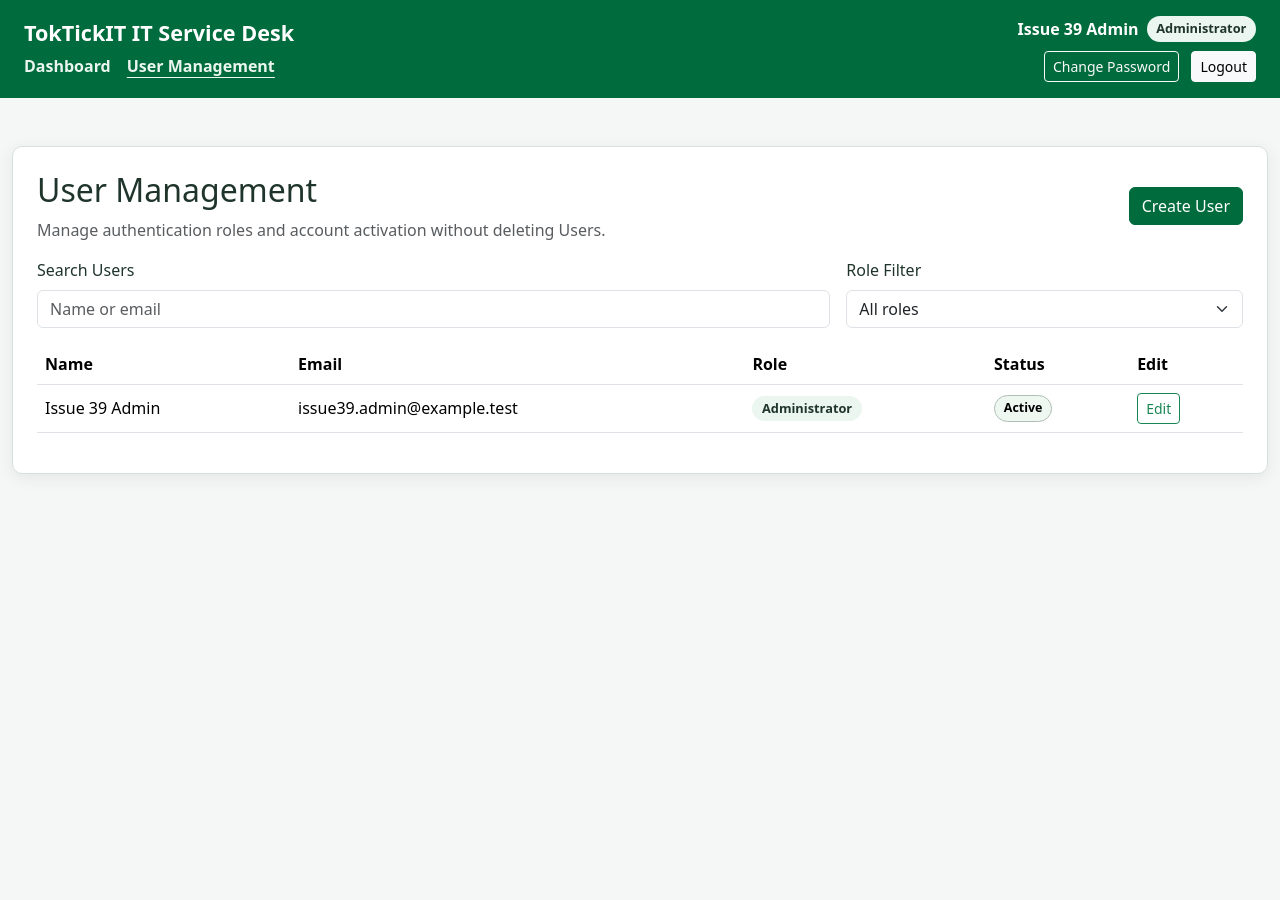
Scenario: Lab 3 Issue 7 Administrator User Management › UI-08 shows last-active-Administrator conflict feedback instead of a generic failure
Click the button "Edit". click: (1159, 408)
box: 1137,392 -> 1180,424
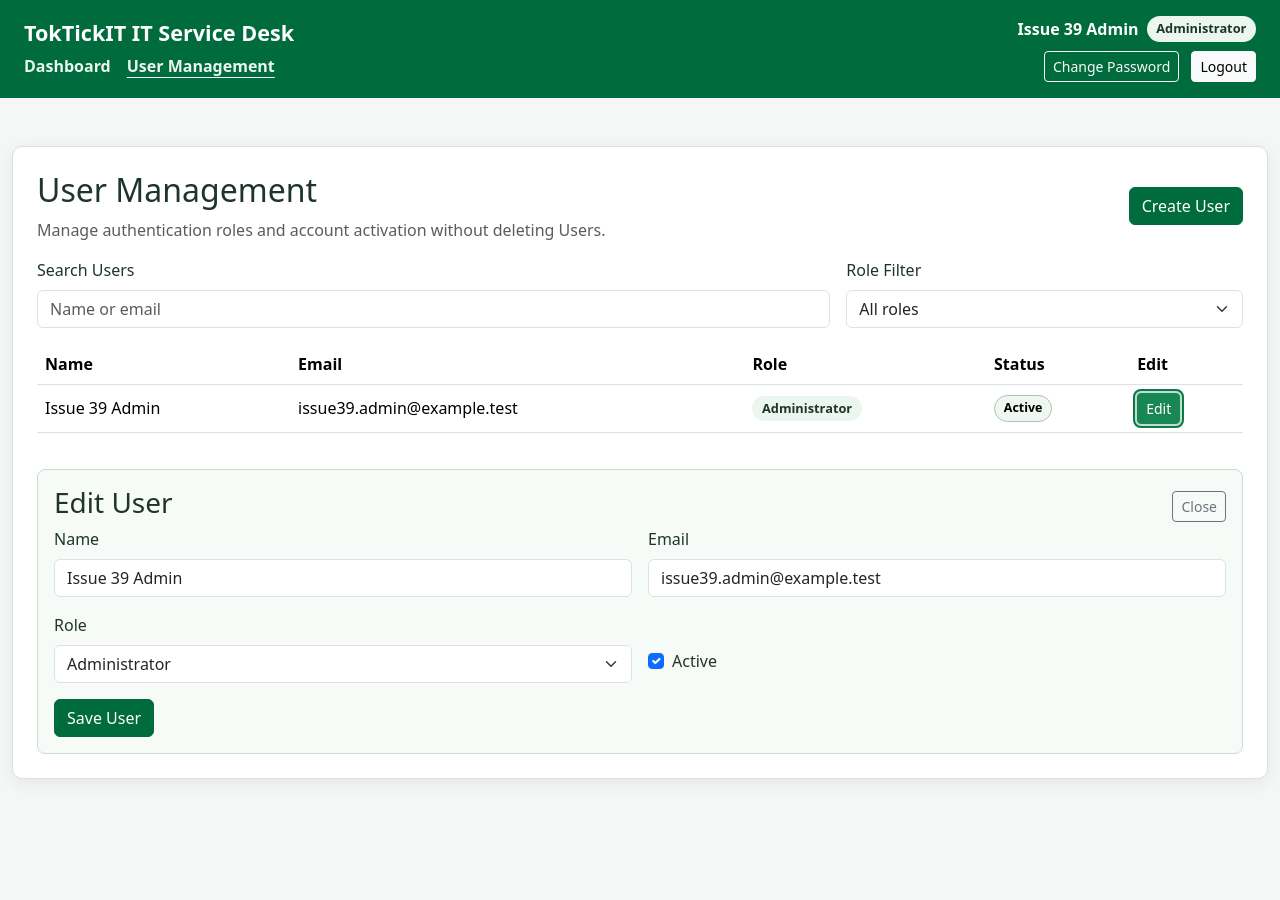
Select "IT Staff" in the dropdown labelled "Role". click: (343, 664)
box: 54,645 -> 632,683
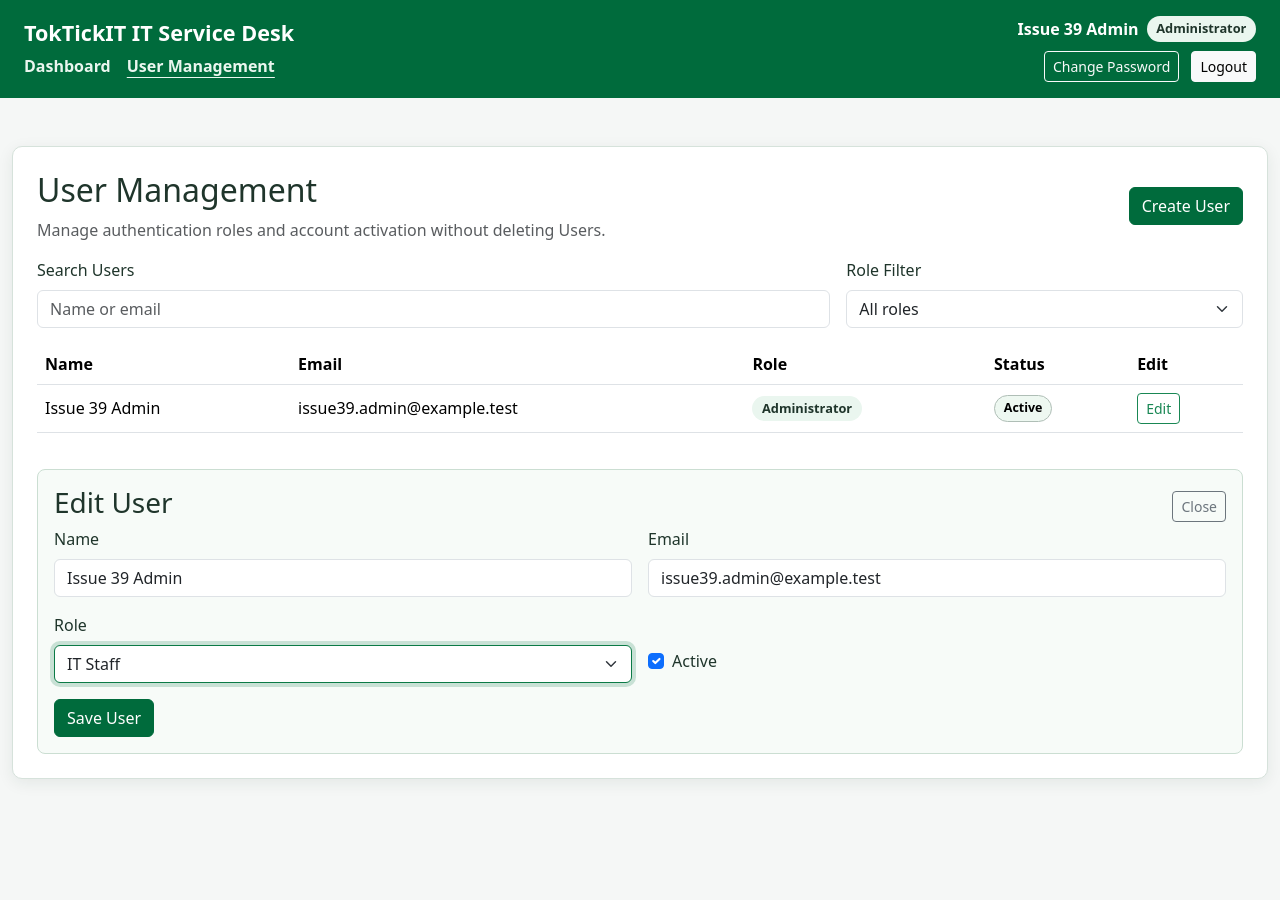
Click the button "Save User". click: (104, 718)
box: 54,699 -> 154,737
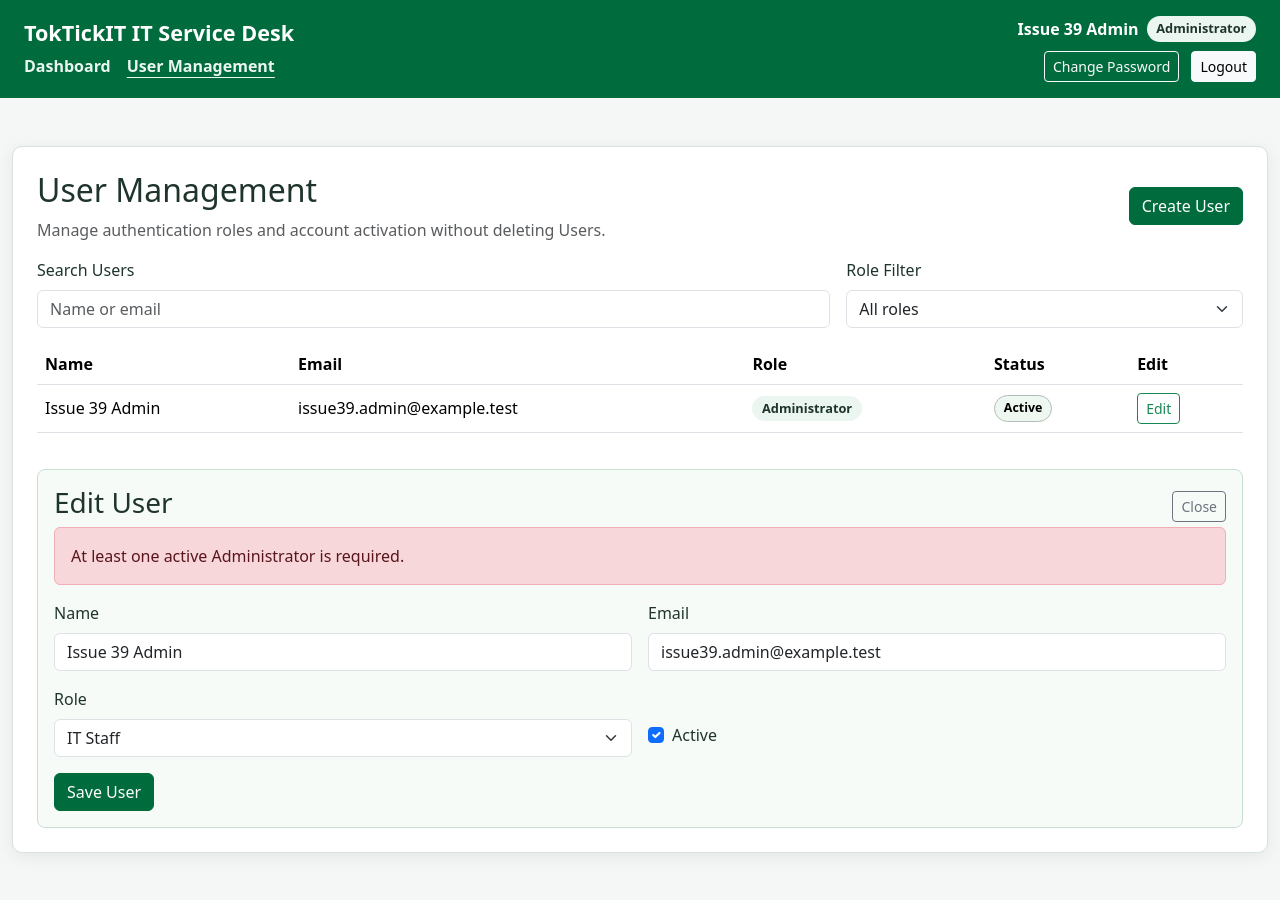
Expected: the message shows "At least one active Administrator is required", 71,545 -> 404,567
